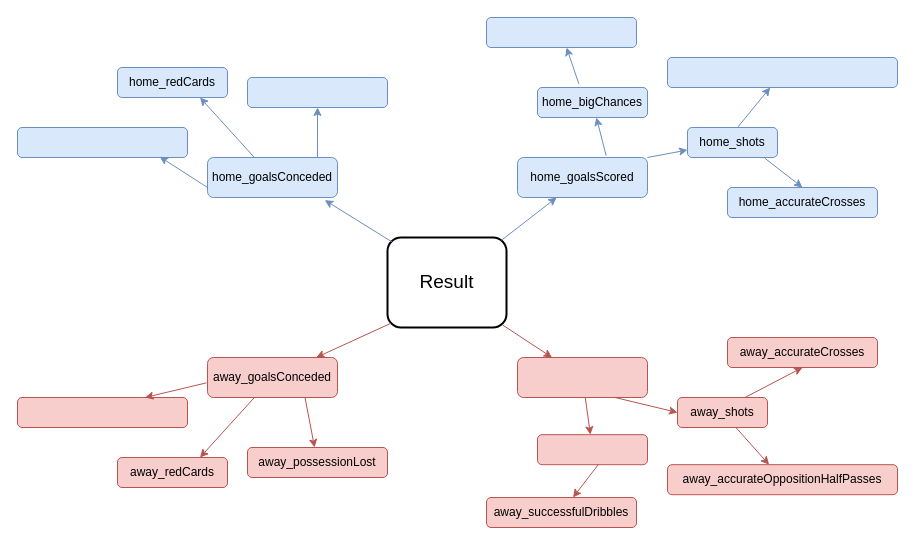
Some shapes in this 915 by 545 pixel diagram are drawn without their labels. The shapes that lost their labels are listed below. From the top down, each one's box as (x1, y1, x2, y2) in pixels, then its label:
(486, 16, 636, 48): home_successfulDribbles
(246, 76, 388, 108): home_possessionLost
(666, 56, 898, 88): home_accurateOppositionHalfPasses
(16, 126, 188, 158): home_errorLeadingToShot
(516, 356, 648, 398): away_goalsScored
(16, 396, 188, 428): away_errorLeadingToShot
(536, 434, 648, 465): away_bigChances
